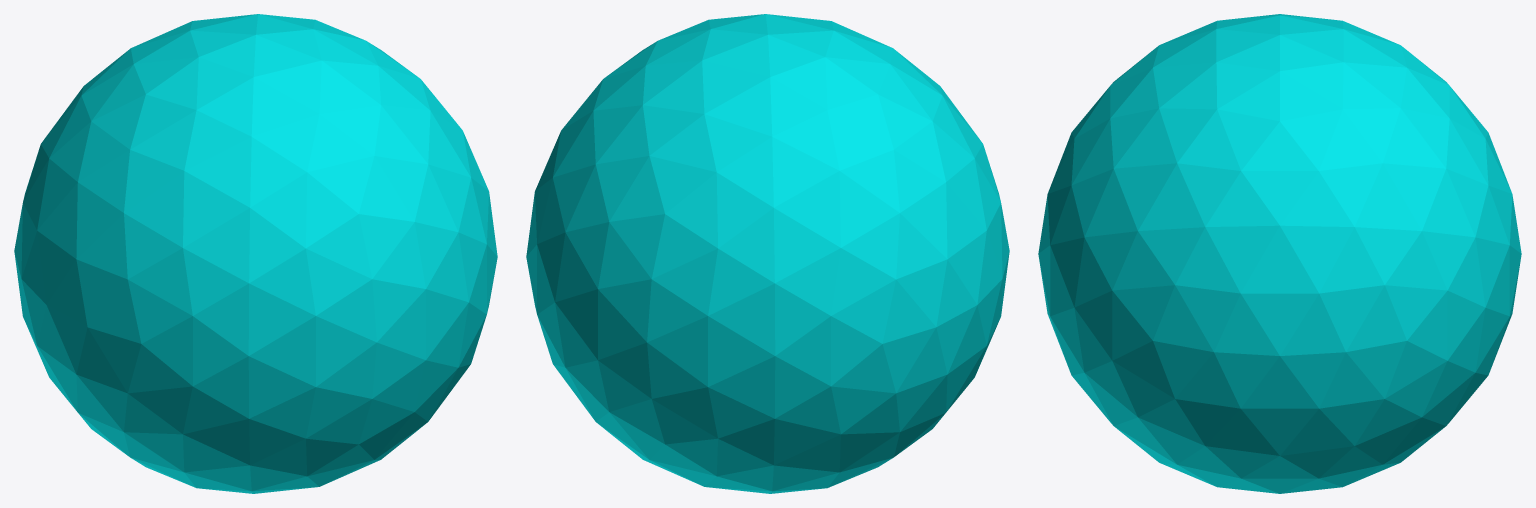
Rendered from schrodinger.fbx.
3 views of the same model, side by side, from view 1: azimuth 30°, elevation 25°; view 2: azimuth 150°, elevation 25°; view 3: azimuth 270°, elevation 25° (orthographic).
Visible parts, largest first — view 1: world.002; view 2: world.002; view 3: world.002.
Boxes of the visible parts, x1,y1,x2,y2 form: world.002: (14,14,497,493); world.002: (526,14,1009,493); world.002: (1038,14,1521,493).
Size of the model in its own units: 400 by 400 by 400.
